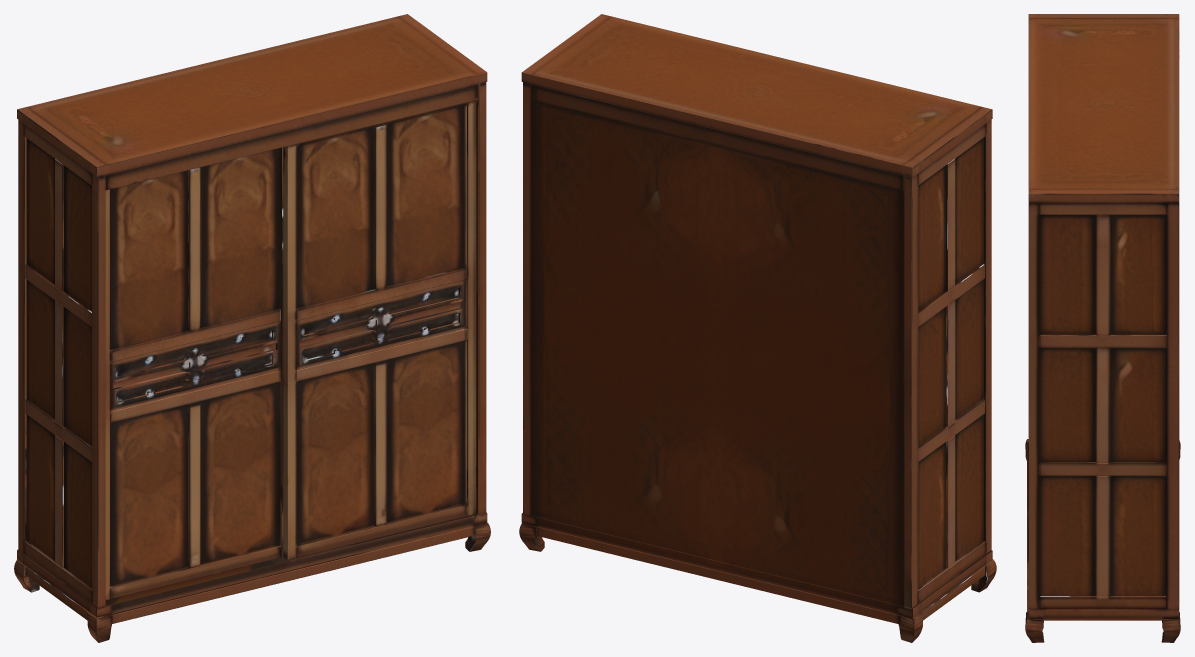
The model's file is edited_mesh.glb.
3 views of the same model, side by side, from view 1: azimuth 30°, elevation 25°; view 2: azimuth 150°, elevation 25°; view 3: azimuth 270°, elevation 25° (orthographic). The views are drawn at different scales.
Parts seen in each view (by area): view 1: normalized_model.obj; view 2: normalized_model.obj; view 3: normalized_model.obj.
Part boxes in pixels (x1,y1,x2,y2): normalized_model.obj: (14, 14, 490, 642); normalized_model.obj: (519, 14, 996, 642); normalized_model.obj: (1025, 14, 1180, 642).
Bounding box in the file's own units: 1.21 × 1.4 × 0.4358.
1 material, 1 textured.
